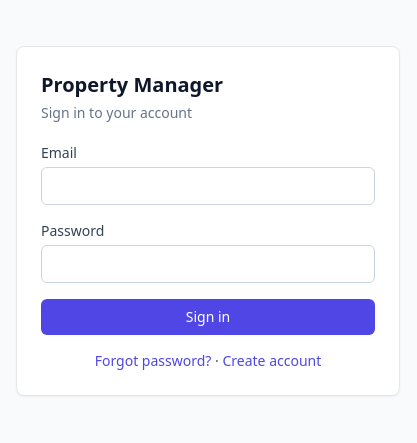
Test case: LoginPage › shows the server error for wrong credentials
Type "a@example.com" into the field labelled "Email" at [208, 186], box [41,167,375,205]
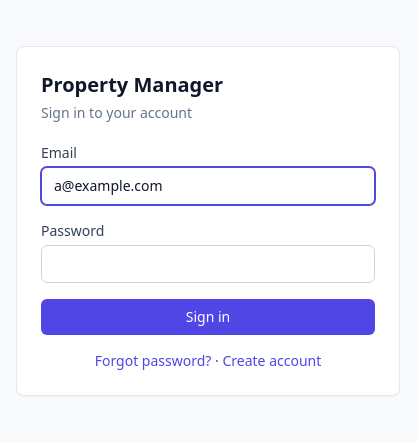
Type "wrongpass" into the password field labelled "Password" at [208, 264], box [41,245,375,283]
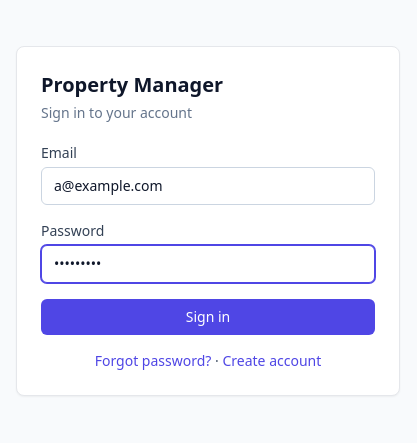
Click the button "Sign in" at [208, 317], box [41,299,375,335]
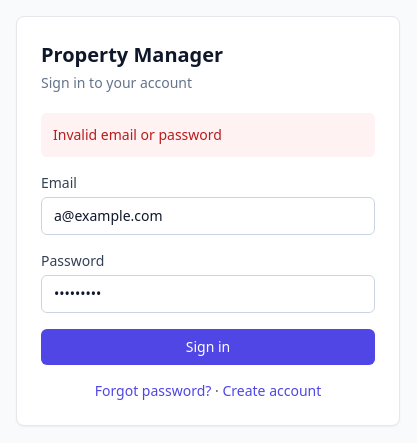
Expected: the message reads "Invalid email or password", [53,125,222,144]
